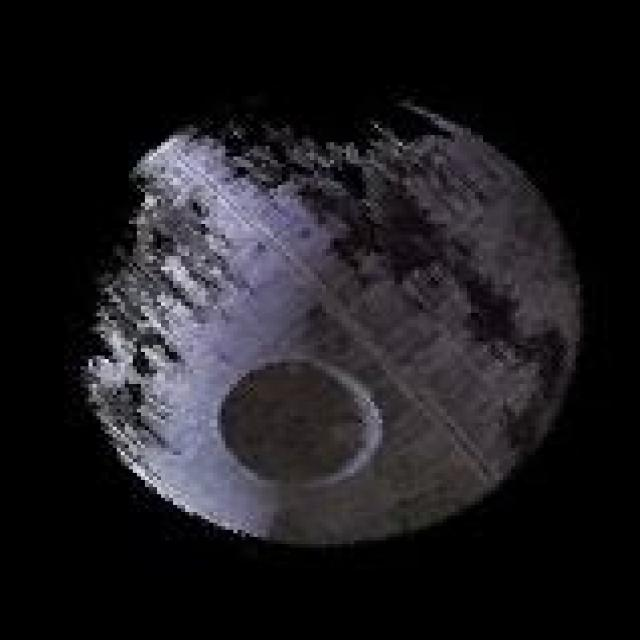Death Star: (68, 85, 588, 551)
